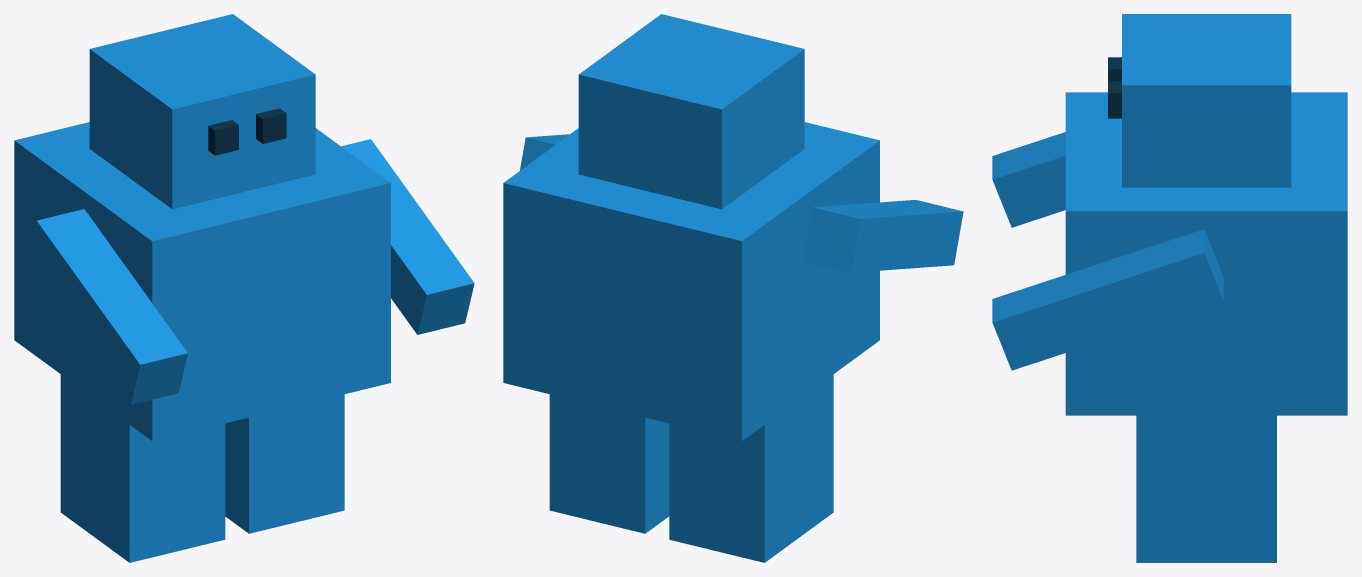
Rendered from IceGolem.fbx.
The picture shows the model from 3 angles, left to right: view 1: azimuth 30°, elevation 25°; view 2: azimuth 150°, elevation 25°; view 3: azimuth 270°, elevation 25°; orthographic projection. The views are drawn at different scales.
Parts seen in each view (by area): view 1: Cube.001, Cube.007, Cube.008; view 2: Cube.001; view 3: Cube.001, Cube.007.
Part boxes in pixels (left/top/right/bottom): Cube.001: left=14, top=14, right=474, bottom=562; Cube.007: left=256, top=108, right=286, bottom=143; Cube.008: left=208, top=120, right=238, bottom=155; Cube.001: left=503, top=14, right=963, bottom=562; Cube.001: left=992, top=14, right=1347, bottom=562; Cube.007: left=1108, top=81, right=1121, bottom=118.
Size of the model in its own units: 140 by 180 by 126.
